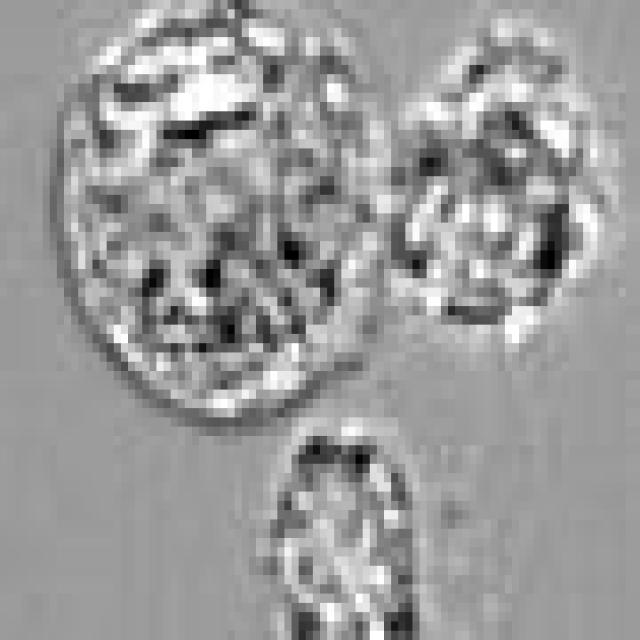Cancer Cell: (64, 10, 384, 418), (263, 426, 419, 640)
WBC: (384, 18, 612, 334)
